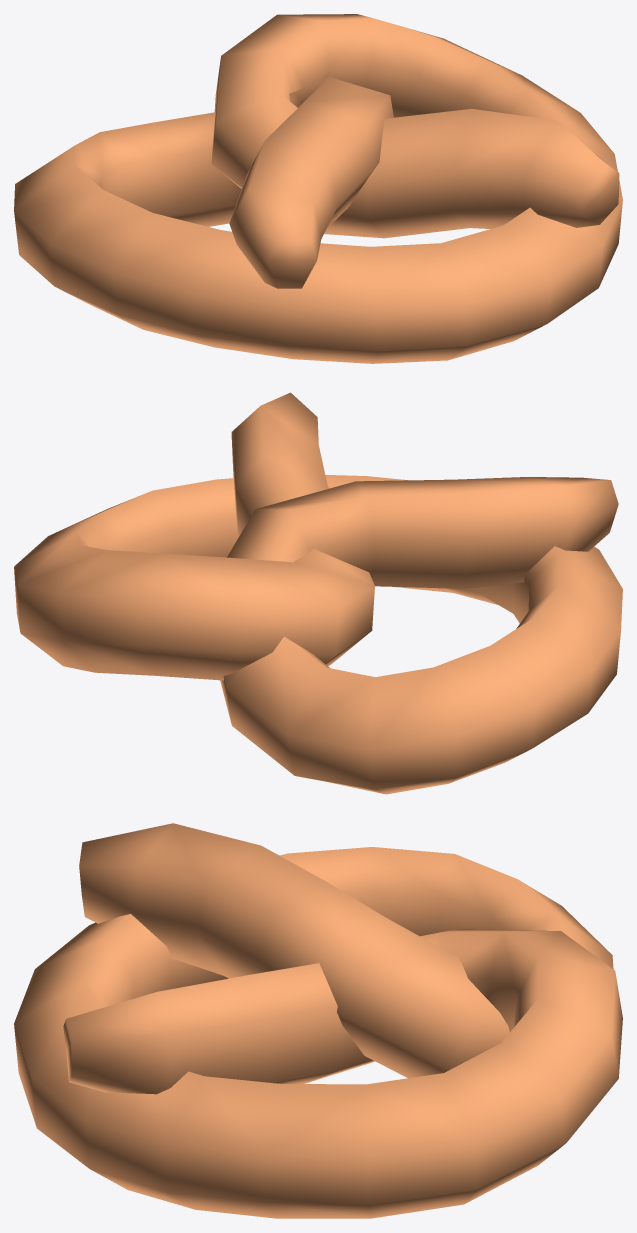
File: candy_assets49.fbx
3 renders of one model, top to bottom at view 1: azimuth 30°, elevation 25°; view 2: azimuth 150°, elevation 25°; view 3: azimuth 270°, elevation 25°, orthographic. The views are drawn at different scales.
Visible parts, largest first — view 1: candy_assets49; view 2: candy_assets49; view 3: candy_assets49.
Part boxes in pixels (<box>): candy_assets49: <box>14,14,622,363</box>; candy_assets49: <box>14,392,622,794</box>; candy_assets49: <box>14,823,622,1218</box>.
Bounding box in the file's own units: 539 × 188 × 467.
1 material, 1 textured.
